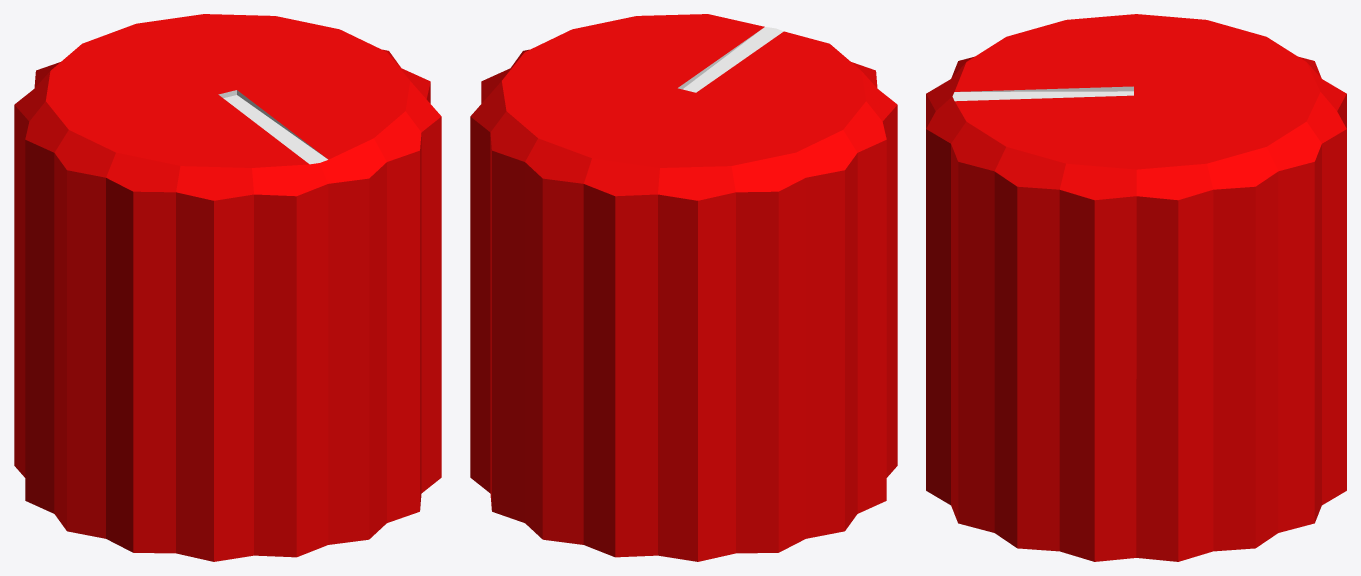
File: potentiometer knob.fbx
3 views of the same model, side by side, from view 1: azimuth 30°, elevation 25°; view 2: azimuth 150°, elevation 25°; view 3: azimuth 270°, elevation 25° (orthographic).
Parts seen in each view (by area): view 1: Potentiometer knob; view 2: Potentiometer knob; view 3: Potentiometer knob.
Part boxes in pixels (box(x1,y1,x2,y2)): Potentiometer knob: box(14, 14, 441, 561); Potentiometer knob: box(470, 14, 897, 561); Potentiometer knob: box(926, 14, 1346, 561).
Size of the model in its own units: 10 by 10 by 10.
